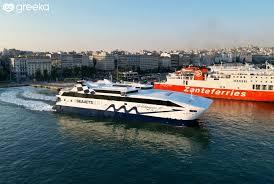Ship: (56, 81, 213, 126), (155, 64, 274, 102)
